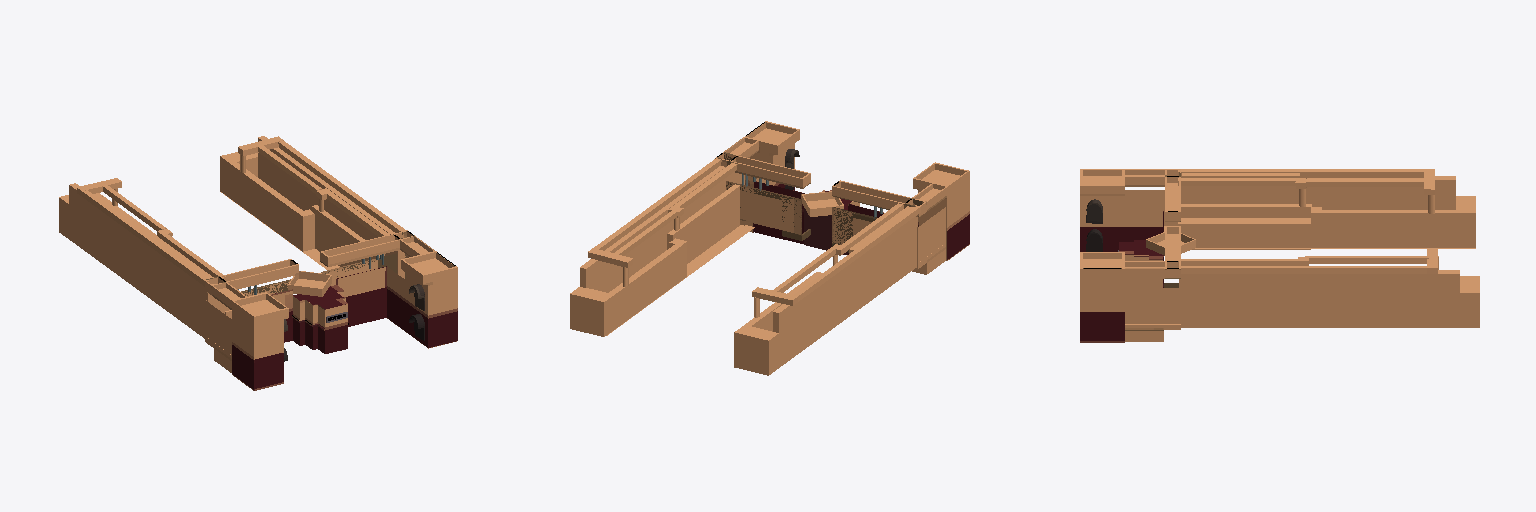
The picture shows the model from 3 angles: view 1: azimuth 30°, elevation 25°; view 2: azimuth 150°, elevation 25°; view 3: azimuth 270°, elevation 25°; orthographic projection.
Parts seen in each view (by area): view 1: Cube.004; view 2: Cube.004; view 3: Cube.004.
Part boxes in pixels (bbox=[...]): Cube.004: bbox=[59, 136, 457, 390]; Cube.004: bbox=[570, 121, 969, 375]; Cube.004: bbox=[1080, 169, 1479, 342].
Bounding box in the file's own units: 10.61 × 3.69 × 17.96.
Materials: 2 (1 with a texture image).